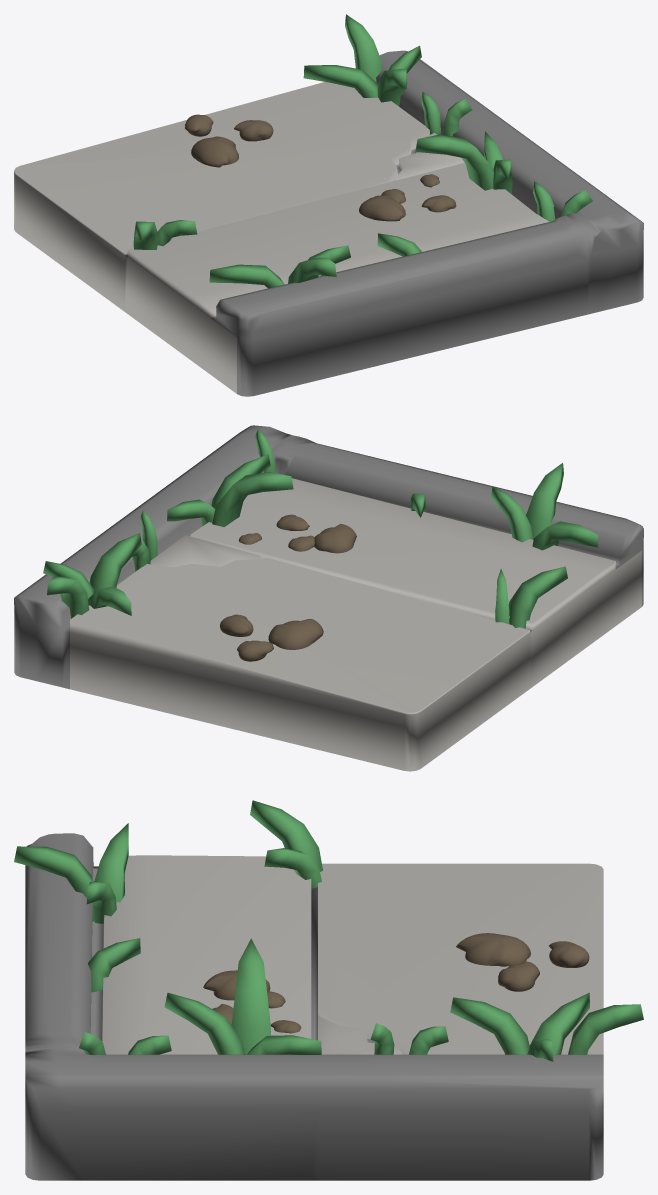
Rendered from SideWalkCornerTile.fbx.
3 renders of one model, top to bottom at view 1: azimuth 30°, elevation 25°; view 2: azimuth 150°, elevation 25°; view 3: azimuth 270°, elevation 25°, orthographic. The views are drawn at different scales.
Visible parts, largest first — view 1: sidewalktile.002, GrassSideWalk1, GrassSideWalk8, GrassSideWalk6, StoneSideWalk, StoneSideWalk2, GrassSideWalk2, GrassSideWalk3, GrassSideWalk7, GrassSudeWalk5; view 2: sidewalktile.002, GrassSideWalk1, GrassSideWalk6, GrassSideWalk8, StoneSideWalk, GrassSideWalk2, StoneSideWalk2, GrassSideWalk3; view 3: sidewalktile.002, GrassSideWalk8, GrassSideWalk1, GrassSideWalk6, StoneSideWalk, GrassSideWalk2, StoneSideWalk2, GrassSideWalk7, GrassSideWalk3, GrassSudeWalk5.
Boxes of the visible parts, left/top/right/bottom form: sidewalktile.002: left=14, top=50, right=643, bottom=396; GrassSideWalk1: left=303, top=14, right=421, bottom=106; GrassSideWalk8: left=415, top=131, right=512, bottom=194; GrassSideWalk6: left=209, top=245, right=350, bottom=288; StoneSideWalk: left=185, top=114, right=273, bottom=167; StoneSideWalk2: left=359, top=174, right=456, bottom=221; GrassSideWalk2: left=133, top=220, right=197, bottom=249; GrassSideWalk3: left=421, top=92, right=472, bottom=136; GrassSideWalk7: left=377, top=233, right=421, bottom=256; GrassSudeWalk5: left=533, top=181, right=554, bottom=221; sidewalktile.002: left=14, top=425, right=643, bottom=771; GrassSideWalk1: left=43, top=533, right=141, bottom=618; GrassSideWalk6: left=491, top=463, right=598, bottom=550; GrassSideWalk8: left=167, top=454, right=293, bottom=526; StoneSideWalk: left=220, top=614, right=323, bottom=661; GrassSideWalk2: left=495, top=566, right=567, bottom=628; StoneSideWalk2: left=238, top=514, right=356, bottom=553; GrassSideWalk3: left=132, top=510, right=157, bottom=571; sidewalktile.002: left=25, top=833, right=603, bottom=1180; GrassSideWalk8: left=164, top=938, right=321, bottom=1054; GrassSideWalk1: left=450, top=992, right=643, bottom=1061; GrassSideWalk6: left=14, top=823, right=128, bottom=923; StoneSideWalk: left=456, top=933, right=589, bottom=991; GrassSideWalk2: left=250, top=800, right=322, bottom=888; StoneSideWalk2: left=203, top=970, right=301, bottom=1033; GrassSideWalk7: left=88, top=938, right=140, bottom=992; GrassSideWalk3: left=370, top=1023, right=448, bottom=1054; GrassSudeWalk5: left=128, top=1035, right=171, bottom=1054.
Bounding box in the file's own units: 1.03 × 0.3025 × 1.09.
